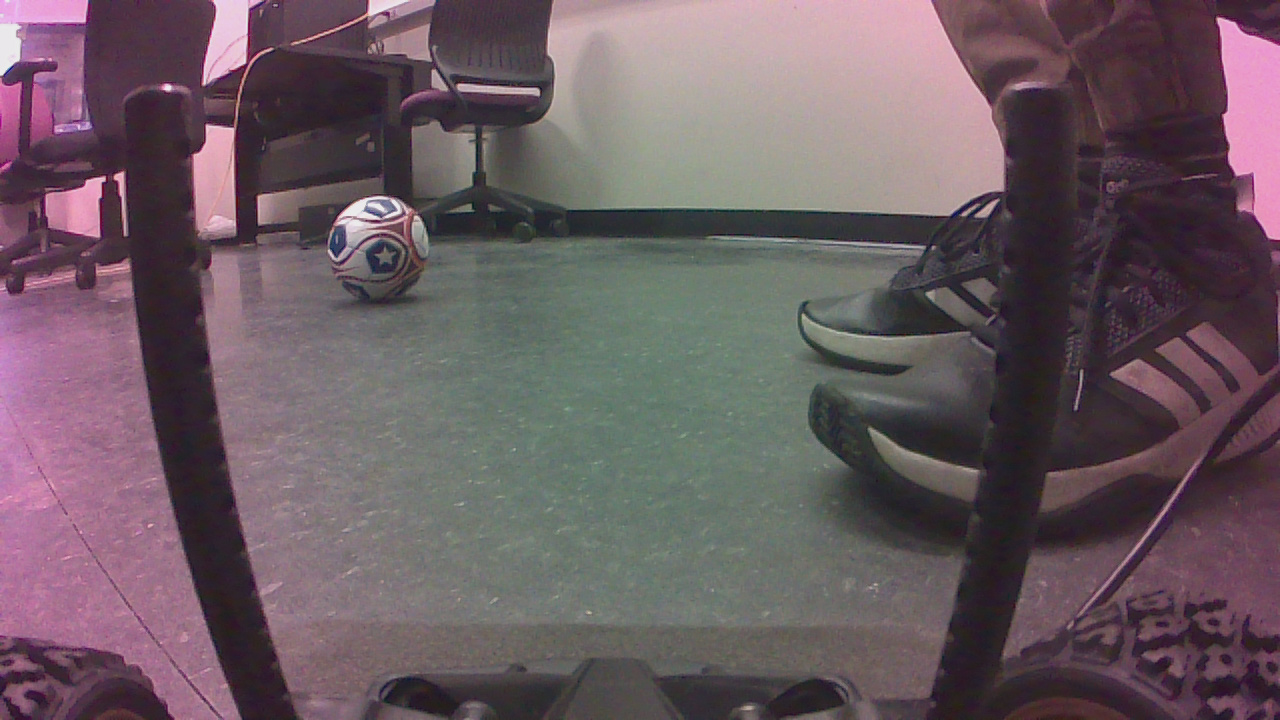ball: (333, 199, 438, 308)
